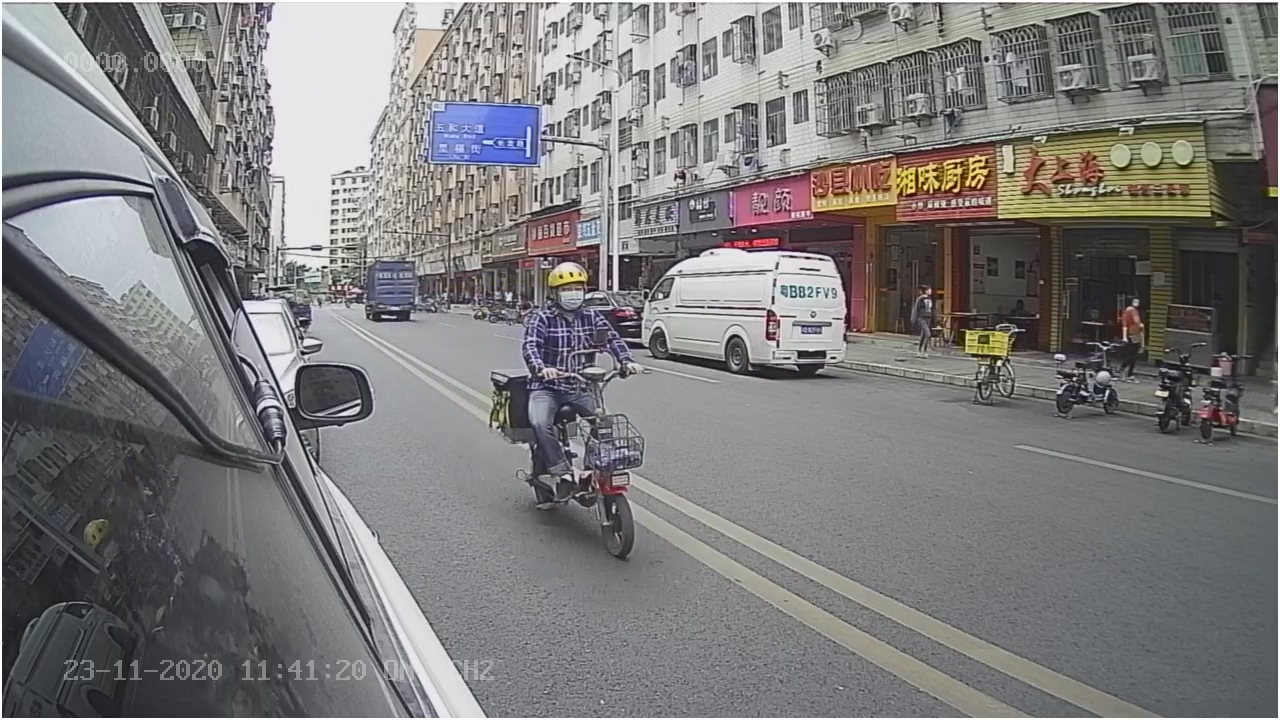person: (515, 254, 641, 365)
